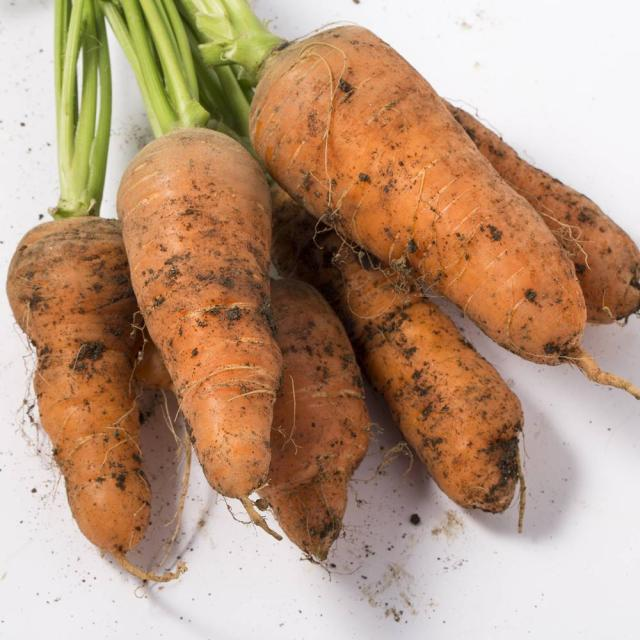carrot: (244, 19, 640, 403), (115, 116, 295, 532), (3, 200, 179, 584)
